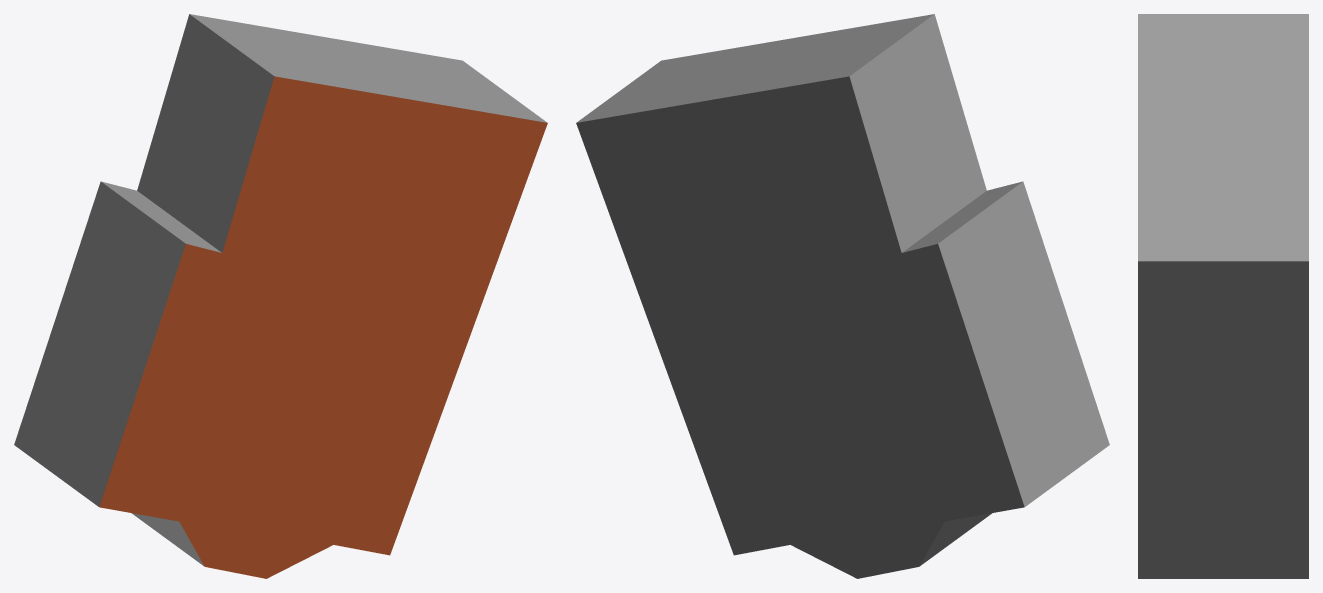
Rendered from construction_5222_assumed_A_Casa_h6m.obj.
3 renders of one model, left to right at view 1: azimuth 30°, elevation 25°; view 2: azimuth 150°, elevation 25°; view 3: azimuth 270°, elevation 25°, orthographic.
Visible parts, largest first — view 1: construction_5222_assumed_A_Casa; view 2: construction_5222_assumed_A_Casa; view 3: construction_5222_assumed_A_Casa.
Boxes of the visible parts, x1,y1,x2,y2 form: construction_5222_assumed_A_Casa: (14, 14, 547, 578); construction_5222_assumed_A_Casa: (576, 14, 1109, 578); construction_5222_assumed_A_Casa: (1138, 14, 1308, 578).
Bounding box in the file's own units: 18.24 × 19.7 × 6.
